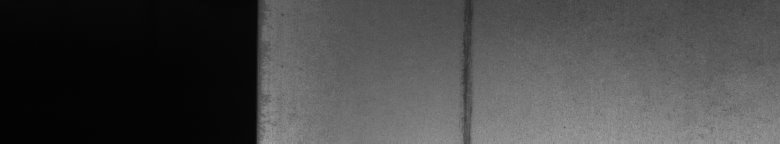hd: (456, 4, 480, 136)
